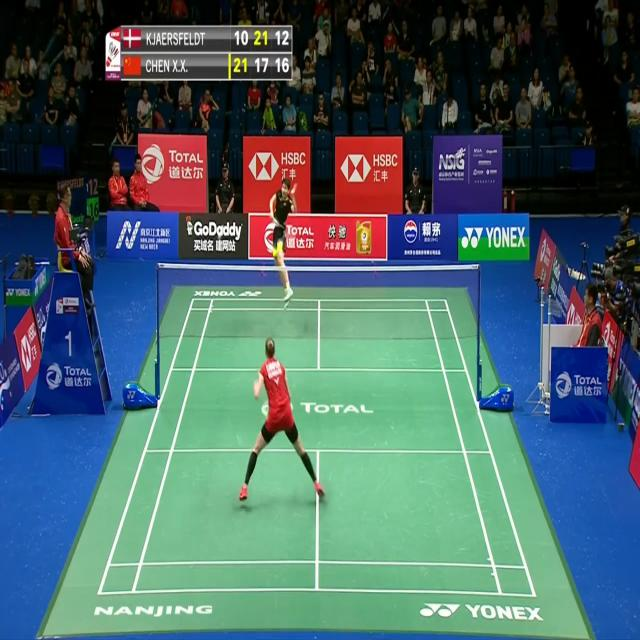Player1: (235, 332, 329, 508)
Player2: (266, 174, 302, 302)
